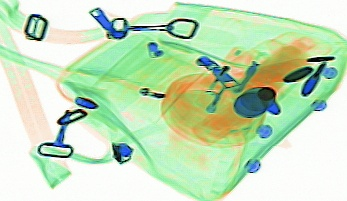lighter: (199, 43, 252, 116)
